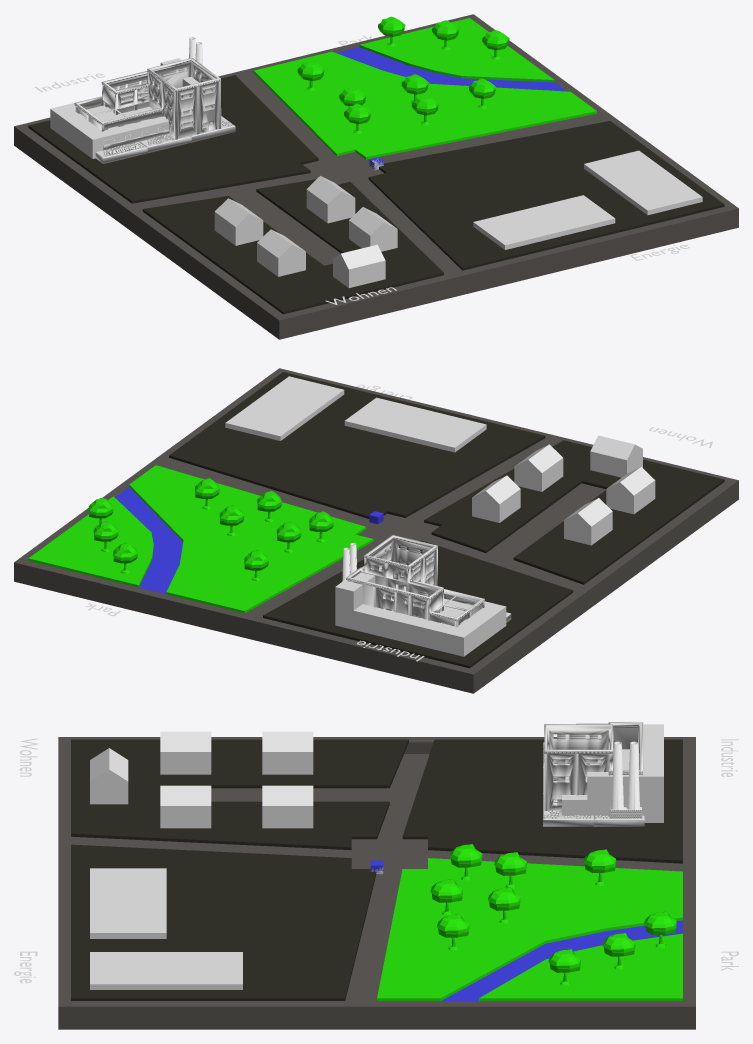
The model's file is Grundfläche.fbx.
3 views of the same model, one above another, from view 1: azimuth 30°, elevation 25°; view 2: azimuth 150°, elevation 25°; view 3: azimuth 270°, elevation 25° (orthographic). The views are drawn at different scales.
Visible parts, largest first — view 1: Plane, Fabrik, Energiekomplex1, Engergiekomplex2, Cube, Wohnhaus5, Wohnhaus1, Wohnhaus3, Wohnhaus2, Wohnhaus4; view 2: Plane, Fabrik, Cube, Energiekomplex1, Engergiekomplex2, Wohnhaus5, Wohnhaus2, Wohnhaus4, Wohnhaus3, Wohnhaus1, Cube.001; view 3: Plane, Fabrik, Engergiekomplex2, Energiekomplex1, Cube.001, Wohnhaus1, Wohnhaus2, Wohnhaus3, Wohnhaus4, Wohnhaus5, Cube, Baum.003 (+9 smaller).
Part boxes in pixels (left/top/right/bottom): Plane: left=14, top=14, right=738, bottom=339; Fabrik: left=74, top=37, right=235, bottom=163; Energiekomplex1: left=473, top=195, right=615, bottom=249; Engergiekomplex2: left=584, top=150, right=702, bottom=215; Cube: left=50, top=95, right=191, bottom=158; Wohnhaus5: left=333, top=244, right=385, bottom=287; Wohnhaus1: left=214, top=198, right=263, bottom=245; Wohnhaus3: left=306, top=176, right=355, bottom=223; Wohnhaus2: left=257, top=229, right=305, bottom=276; Wohnhaus4: left=349, top=207, right=397, bottom=251; Plane: left=14, top=368, right=738, bottom=693; Fabrik: left=342, top=534, right=511, bottom=627; Cube: left=353, top=584, right=506, bottom=656; Energiekomplex1: left=344, top=397, right=486, bottom=452; Engergiekomplex2: left=225, top=376, right=344, bottom=440; Wohnhaus5: left=590, top=435, right=642, bottom=477; Wohnhaus2: left=606, top=466, right=655, bottom=514; Wohnhaus4: left=514, top=444, right=563, bottom=491; Wohnhaus3: left=472, top=475, right=520, bottom=522; Wohnhaus1: left=564, top=498, right=612, bottom=545; Cube.001: left=335, top=566, right=381, bottom=629; Plane: left=58, top=737, right=695, bottom=1029; Fabrik: left=543, top=722, right=644, bottom=826; Engergiekomplex2: left=90, top=952, right=242, bottom=989; Energiekomplex1: left=90, top=868, right=166, bottom=938; Cube.001: left=587, top=766, right=663, bottom=822; Wohnhaus1: left=262, top=731, right=313, bottom=774; Wohnhaus2: left=160, top=731, right=211, bottom=774; Wohnhaus3: left=262, top=785, right=313, bottom=828; Wohnhaus4: left=160, top=785, right=211, bottom=828; Wohnhaus5: left=90, top=748, right=128, bottom=804; Cube: left=565, top=724, right=663, bottom=780; Baum.003: left=437, top=914, right=469, bottom=950.
Bounding box in the file's own units: 100 × 18.44 × 114.
